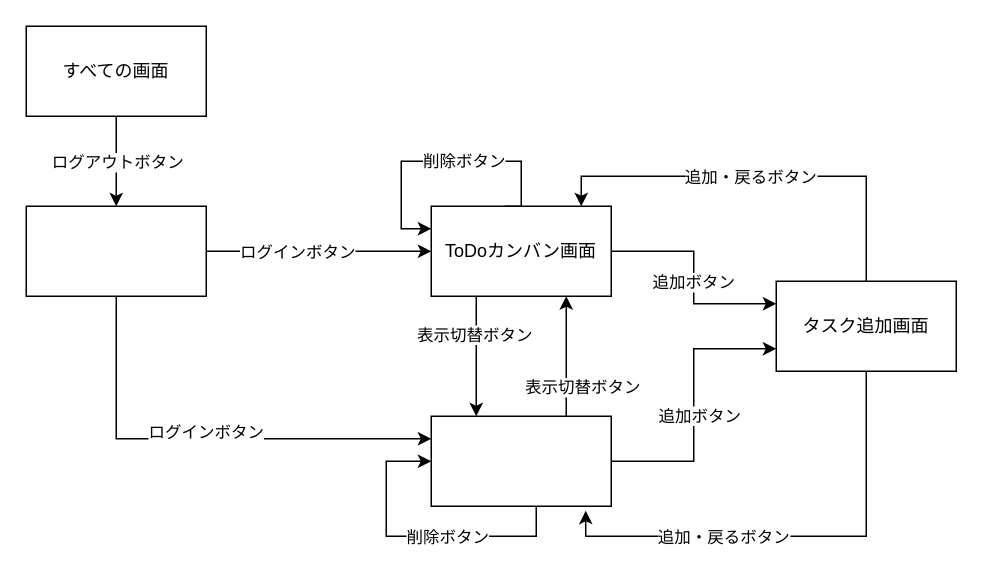
Image size: 983x575. Some labels were removed from this diagram. The centre of each missing label's shape, as x and y in pixels:
"ToDoリスト画面" goes at point 520,460.
"ログイン画面" goes at point 115,250.
